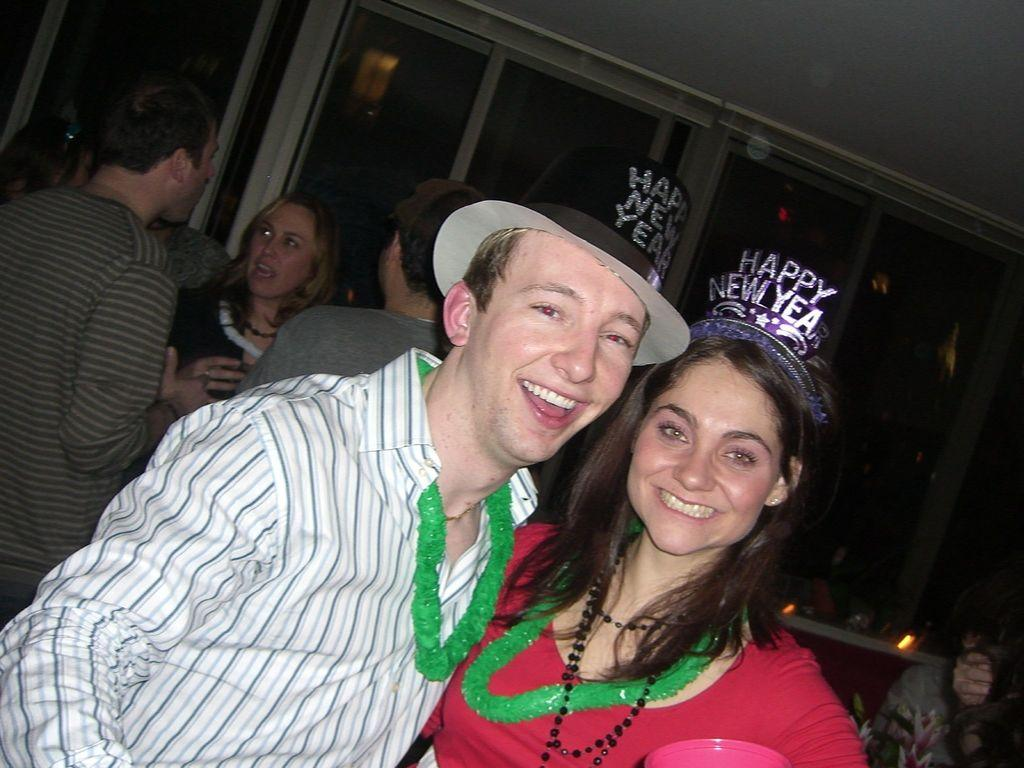Hat: (430, 150, 696, 368), (679, 236, 834, 426)
